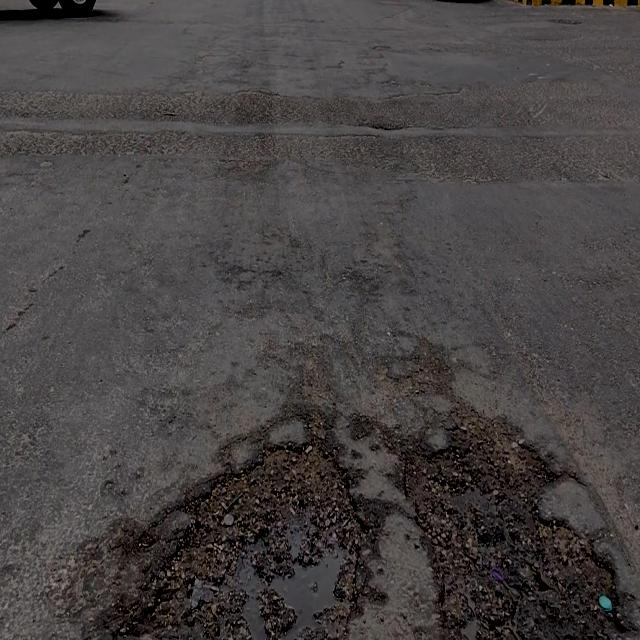Potholes: (404, 422, 617, 640), (160, 439, 368, 640)
